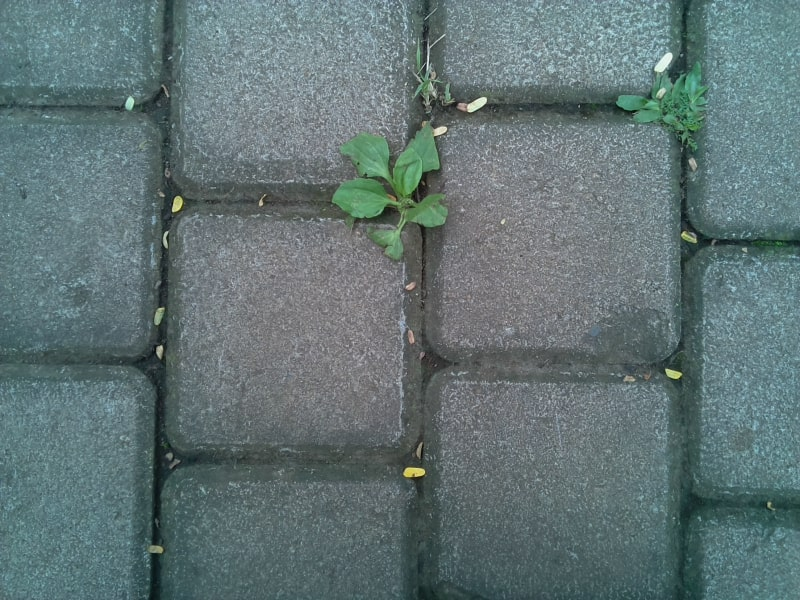Weed: (338, 141, 451, 254), (641, 77, 706, 141), (409, 50, 445, 116)
